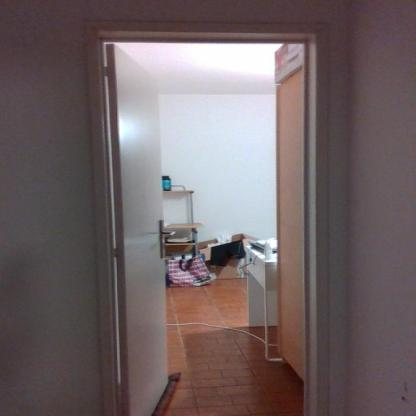door: (84, 20, 345, 416)
